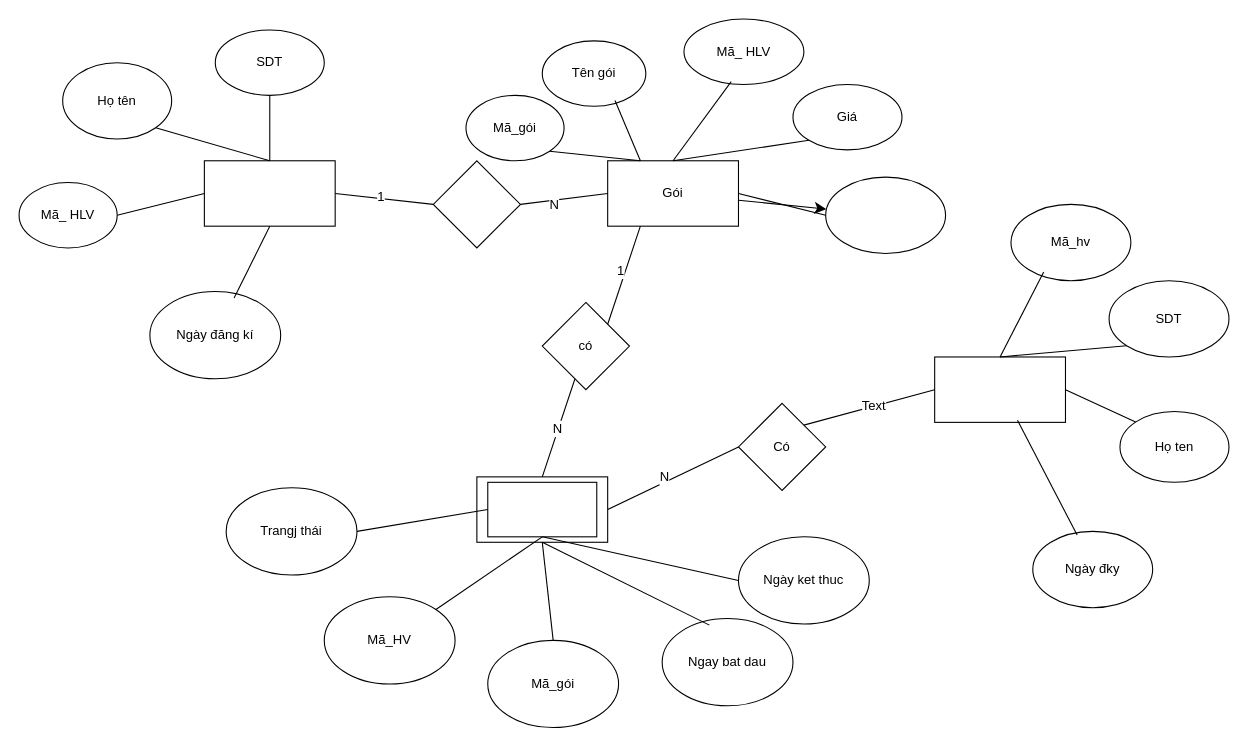
This 1248x747 diagram has some shape labels left out. The centre of each missing label's shape, as x and y in pixels:
"Huấn luyện viên" belongs at point 269,193.
"Học viên" belongs at point 999,389.
"Phụ trách" belongs at point 476,204.
"Thời hạn" belongs at point 885,214.
"Đăng ký" belongs at point 542,509.
